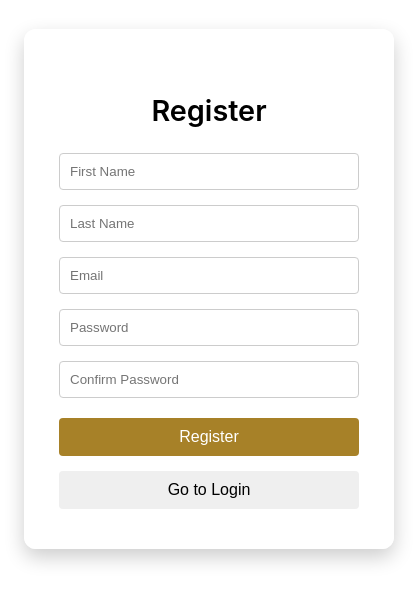
Test: RegisterForm › shows error message if registerUser API throws an error
The image size is (419, 596).
Type "Error" into the field with placeholder "First Name" at (209, 171), box [59,153,359,190]
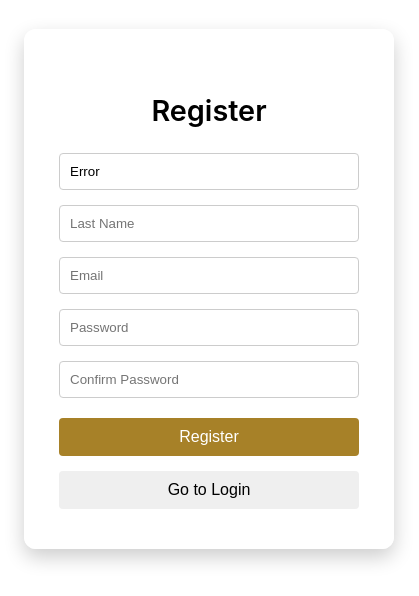
Type "Test" into the field with placeholder "Last Name" at (209, 223), box [59,205,359,242]
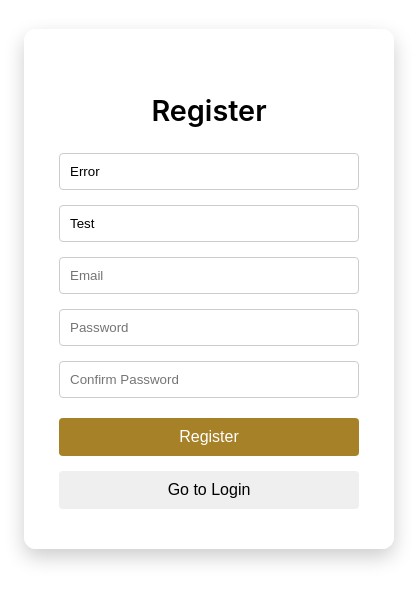
Type "error@test.com" into the field with placeholder "Email" at (209, 275), box [59,257,359,294]
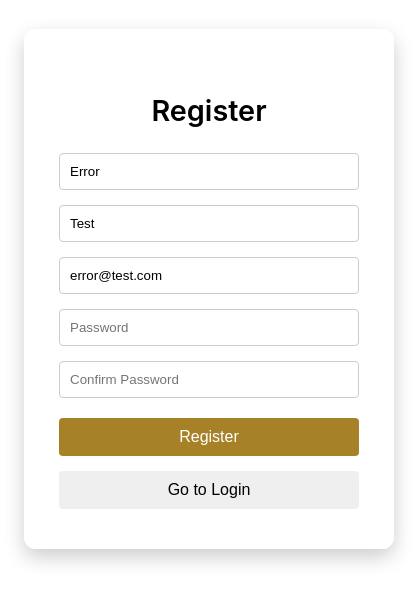
Type "Password3!" into the password field with placeholder "Password" at (209, 327), box [59,309,359,346]
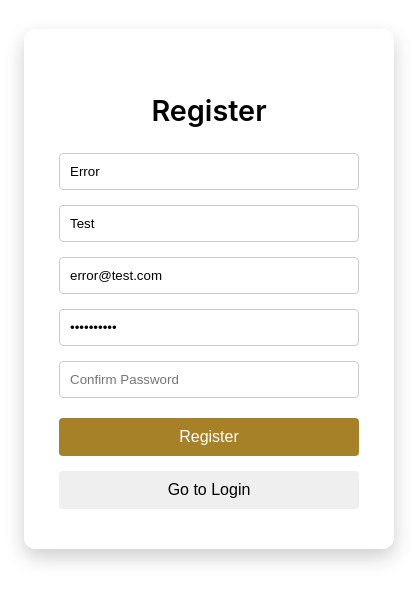
Type "Password3!" into the password field with placeholder "Confirm Password" at (209, 379), box [59,361,359,398]
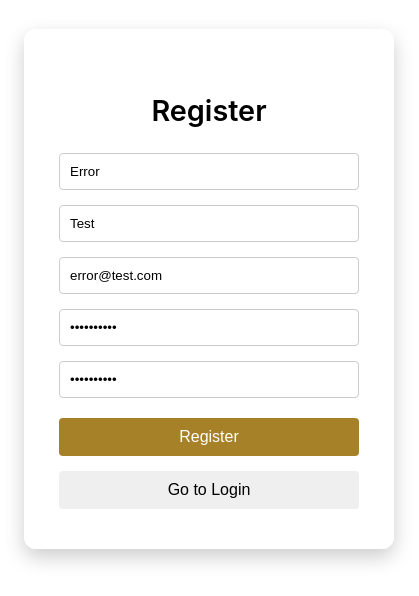
Click the button "Register" at (209, 437), box [59,418,359,456]
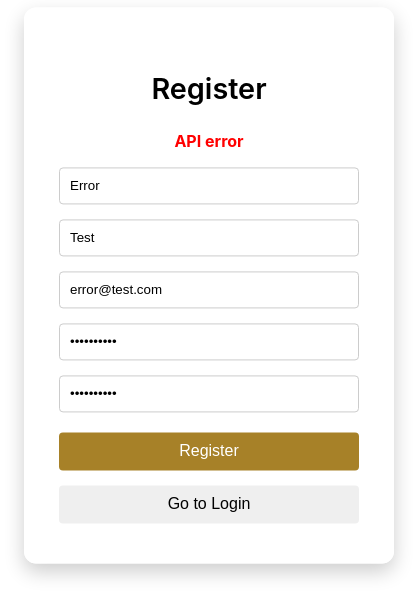
Check: the text "API error" is shown, box [174,131,244,151]
